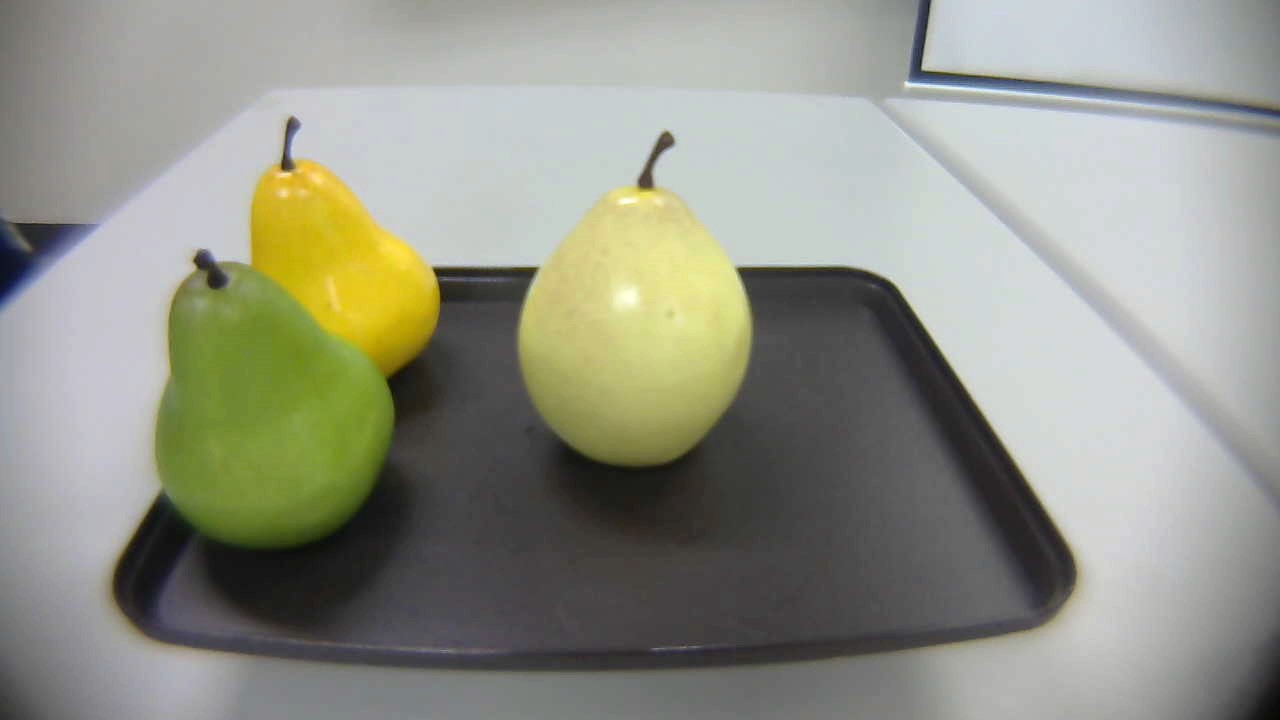green pear: (141, 250, 396, 561)
western pear: (491, 126, 768, 487)
yellow pear: (238, 103, 446, 392)
